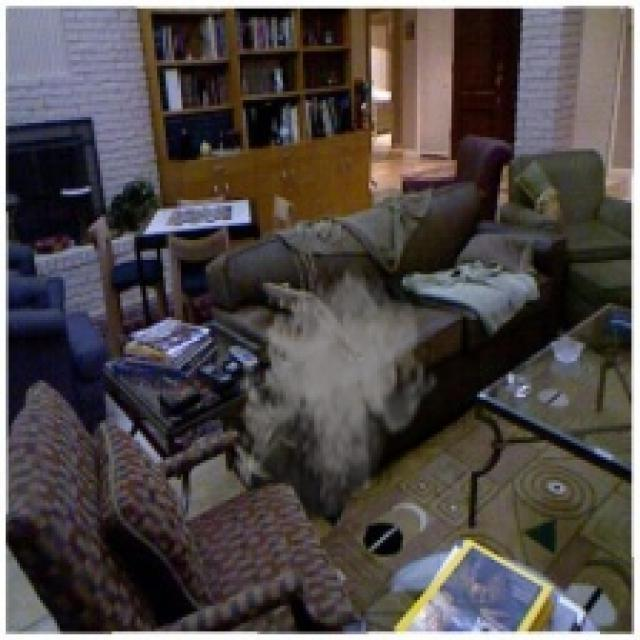Smoke: (228, 260, 441, 526)
